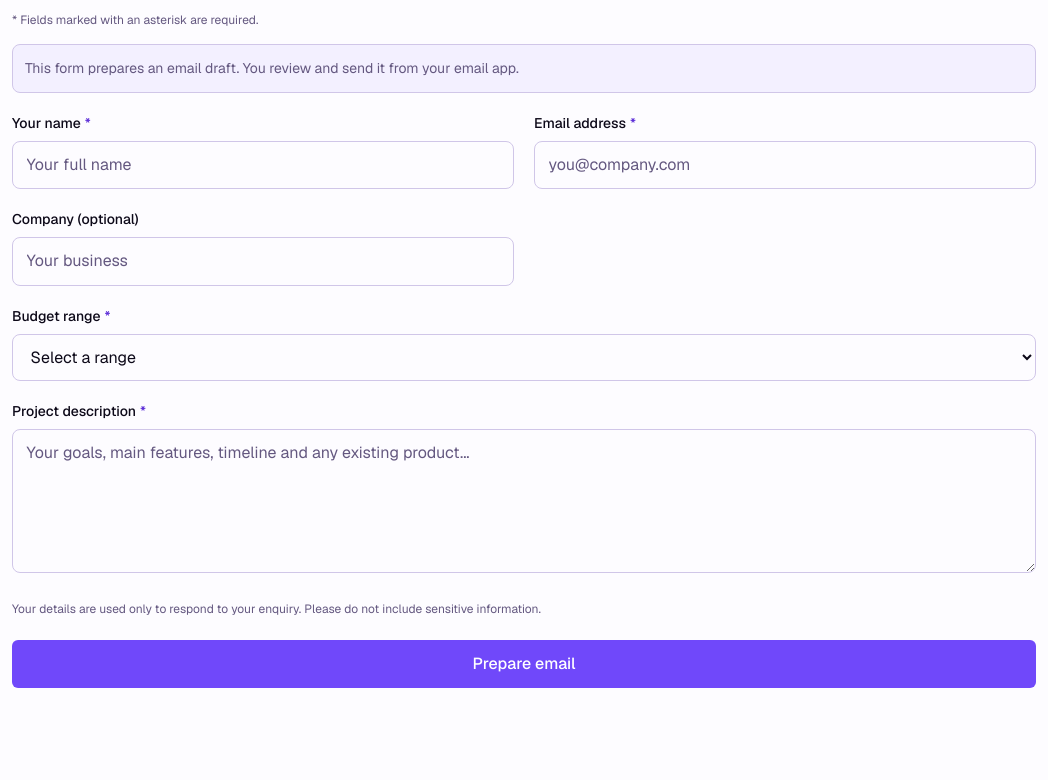
Test case: ProjectForm › validates required fields without contacting the server
What coordinates should you click on to do the following:
click the button "Prepare email"
I would click on:
 (524, 664)
Its box is [12,640,1036,688].
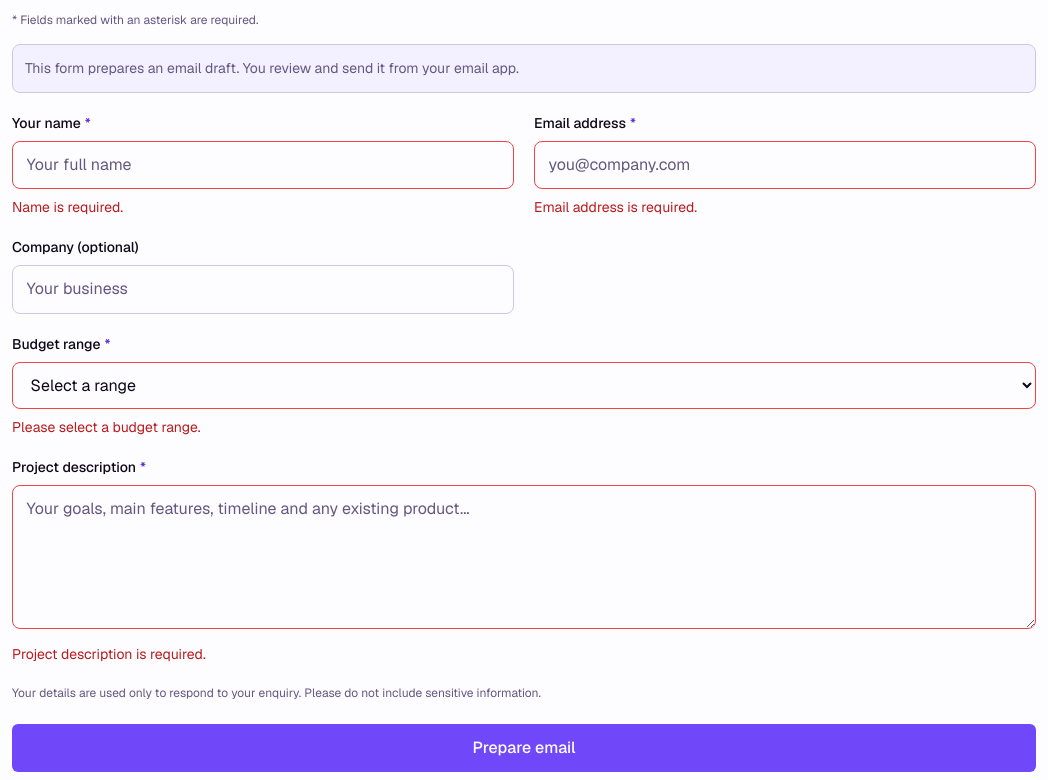
Expected: the text "Name is required." is shown, [12,198,123,216]
